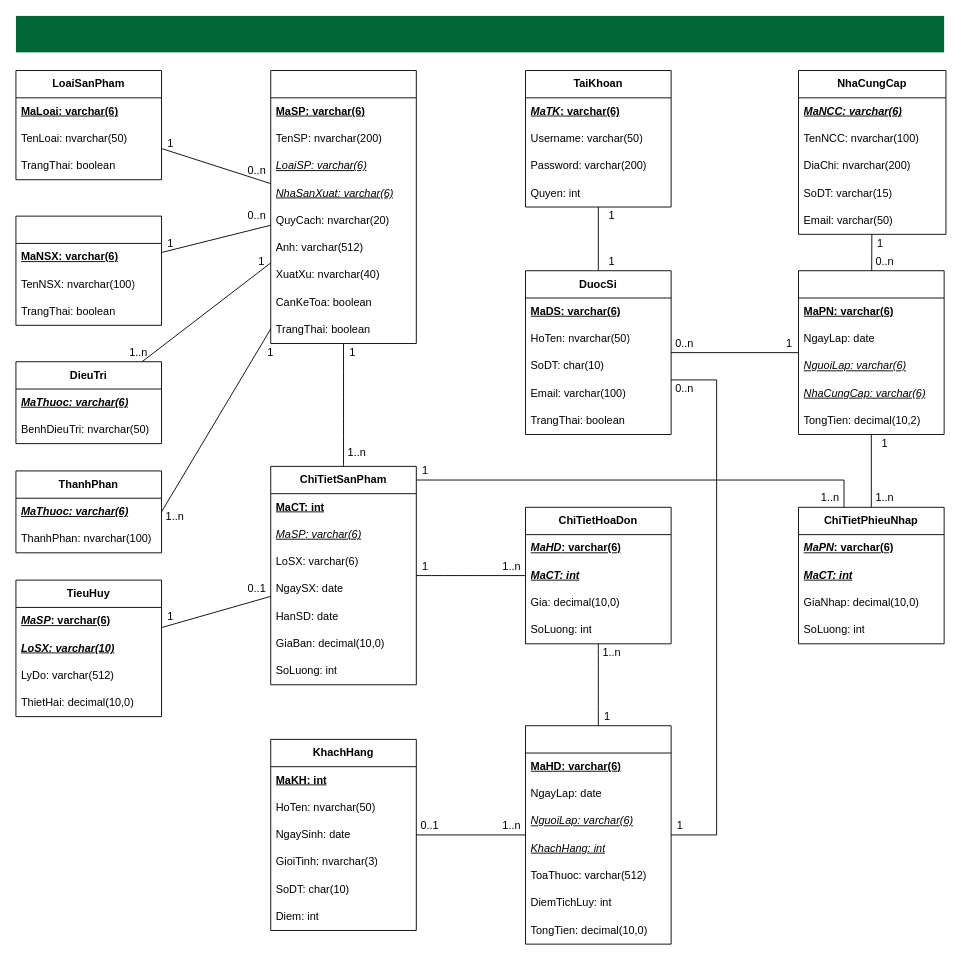
The diagram is 962 pixels wide and 960 high, and some of its shapes have lost their labels. Each missing label, with the box of its shape:
Cơ sở dữ liệu của Ứng dụng quản lý tiệm thuốc (Nhóm 8): (15, 15, 944, 52)
HoaDon: (525, 725, 671, 944)
NhaSanXuat: (15, 215, 162, 325)
PhieuNhap: (798, 270, 944, 435)
SanPham: (270, 70, 416, 344)
